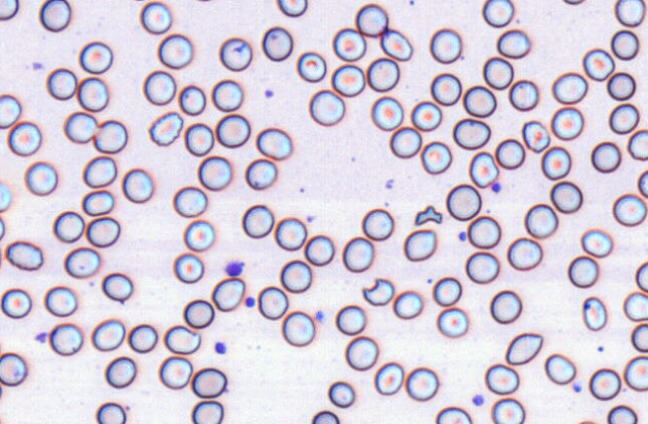PLT: (225, 261, 241, 276), (214, 342, 229, 354), (316, 310, 329, 323), (470, 395, 484, 407), (459, 229, 470, 243), (35, 332, 47, 344), (244, 296, 256, 308), (571, 384, 582, 395), (265, 87, 276, 98), (492, 181, 501, 192)
RBC: (308, 89, 345, 126), (446, 183, 481, 220), (157, 33, 192, 69), (505, 332, 543, 365), (148, 111, 183, 146), (281, 310, 315, 346), (7, 120, 41, 156), (452, 117, 490, 149), (48, 322, 83, 356), (344, 335, 378, 370), (524, 203, 558, 238), (197, 155, 231, 190), (215, 113, 250, 147), (506, 237, 542, 270), (370, 95, 403, 131), (256, 127, 292, 160), (158, 355, 192, 389), (93, 119, 127, 153), (332, 27, 366, 61), (405, 366, 438, 401), (24, 161, 57, 196), (552, 71, 587, 104), (143, 70, 176, 105), (78, 41, 113, 74), (366, 57, 399, 92), (64, 246, 100, 278), (342, 236, 374, 272), (76, 76, 108, 112), (429, 27, 461, 63), (5, 240, 43, 270), (465, 251, 499, 284), (91, 318, 125, 351), (489, 289, 522, 323), (612, 193, 646, 226), (467, 215, 501, 248), (279, 259, 312, 293), (212, 277, 245, 311), (355, 3, 388, 37), (83, 155, 117, 188), (331, 64, 365, 97), (219, 37, 252, 71), (484, 363, 519, 395), (261, 26, 293, 61), (191, 367, 227, 398), (468, 151, 498, 188), (588, 367, 621, 400), (403, 228, 436, 261), (274, 217, 307, 250), (242, 204, 274, 238), (551, 106, 583, 140), (122, 168, 153, 203), (540, 145, 571, 180), (361, 208, 394, 240), (64, 111, 97, 143), (44, 285, 77, 317), (379, 29, 412, 61), (550, 180, 582, 213), (463, 85, 496, 117), (582, 48, 614, 81), (257, 285, 288, 319), (420, 140, 451, 174), (86, 216, 120, 247), (173, 186, 207, 217), (104, 356, 136, 388), (389, 126, 421, 158), (39, 0, 71, 32), (245, 158, 277, 190), (183, 219, 215, 251), (211, 79, 243, 111), (53, 210, 84, 243), (567, 255, 598, 288), (140, 1, 171, 34), (46, 67, 77, 100), (482, 56, 513, 89), (430, 72, 461, 105), (496, 28, 530, 58), (184, 122, 214, 156), (544, 353, 576, 384), (590, 141, 621, 173), (410, 100, 442, 131), (374, 362, 404, 395), (0, 287, 31, 318), (335, 304, 366, 335), (436, 307, 468, 337), (304, 234, 334, 266), (101, 272, 133, 302), (508, 79, 538, 111), (173, 253, 204, 283), (495, 138, 525, 169), (609, 103, 639, 134), (296, 51, 326, 82), (580, 228, 612, 257), (521, 120, 550, 152), (0, 352, 27, 386), (490, 397, 525, 423), (432, 276, 462, 306), (127, 323, 157, 353), (392, 290, 423, 319), (183, 299, 214, 328), (610, 29, 639, 60), (582, 296, 607, 331), (82, 189, 114, 216), (482, 0, 514, 27), (607, 71, 636, 100), (614, 0, 645, 27), (178, 84, 205, 115), (624, 355, 647, 391), (327, 380, 355, 407), (191, 400, 223, 423), (0, 93, 21, 128), (623, 291, 647, 321), (95, 401, 126, 423), (435, 406, 472, 423), (627, 129, 647, 160), (607, 405, 637, 423), (277, 0, 307, 17), (631, 322, 647, 352), (635, 261, 647, 292), (311, 410, 339, 423), (0, 0, 18, 20), (0, 182, 11, 211), (637, 169, 647, 197), (0, 216, 5, 240), (562, 0, 586, 5), (576, 420, 598, 424)
Schistocyte: (165, 325, 202, 354), (363, 279, 396, 306), (415, 204, 443, 225)
